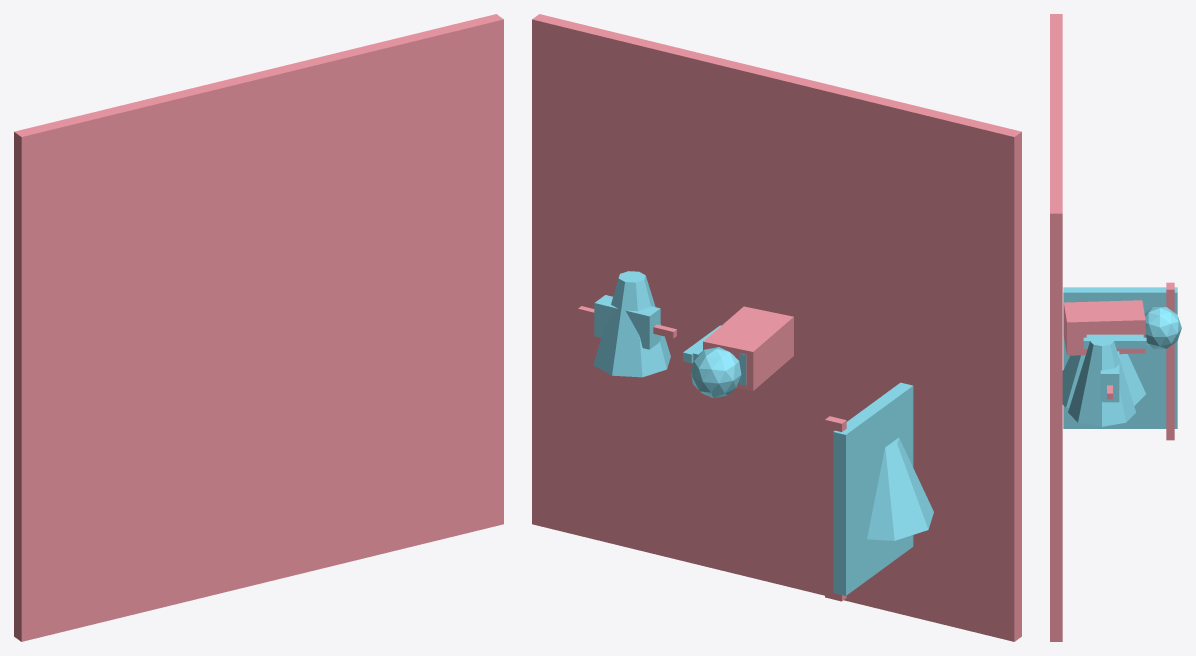
The model's file is neon-breach-fps-kit.glb.
3 renders of one model, left to right at view 1: azimuth 30°, elevation 25°; view 2: azimuth 150°, elevation 25°; view 3: azimuth 270°, elevation 25°, orthographic. The views are drawn at different scales.
Parts seen in each view (by area): view 1: ENVIRONMENT_GROUND; view 2: ENVIRONMENT_GROUND, PROFILE_ENVIRONMENT_DETAIL, OBSTACLE, PLAYER_BODY, ENVIRONMENT_LANDMARK, PLAYER_HEAD, PROFILE_ENVIRONMENT_TRIM, PROFILE_OBSTACLE_DETAIL; view 3: ENVIRONMENT_GROUND, PROFILE_ENVIRONMENT_DETAIL, OBSTACLE, PLAYER_BODY, ENVIRONMENT_LANDMARK, PLAYER_HEAD, PROFILE_ENVIRONMENT_TRIM, PROFILE_OBSTACLE_DETAIL, PLAYER_TOOL, PROFILE_PLAYER_TOOL.
Boxes of the visible parts, x1,y1,x2,y2 form: ENVIRONMENT_GROUND: (14,14,503,641); ENVIRONMENT_GROUND: (532,14,1021,641); PROFILE_ENVIRONMENT_DETAIL: (833,382,913,595); OBSTACLE: (593,271,670,377); PLAYER_BODY: (703,306,793,390); ENVIRONMENT_LANDMARK: (867,437,933,540); PLAYER_HEAD: (690,347,741,398); PROFILE_ENVIRONMENT_TRIM: (825,416,846,601); PROFILE_OBSTACLE_DETAIL: (594,295,660,349); ENVIRONMENT_GROUND: (1050,14,1062,641); PROFILE_ENVIRONMENT_DETAIL: (1063,287,1177,428); OBSTACLE: (1068,336,1135,426); PLAYER_BODY: (1063,300,1145,355); ENVIRONMENT_LANDMARK: (1062,354,1145,408); PLAYER_HEAD: (1144,307,1181,348); PROFILE_ENVIRONMENT_TRIM: (1166,282,1174,440); PROFILE_OBSTACLE_DETAIL: (1100,351,1119,402); PLAYER_TOOL: (1083,337,1146,348); PROFILE_PLAYER_TOOL: (1086,334,1143,337).
Size of what is drawn, in the model's own units: 9 by 9 by 2.51.
